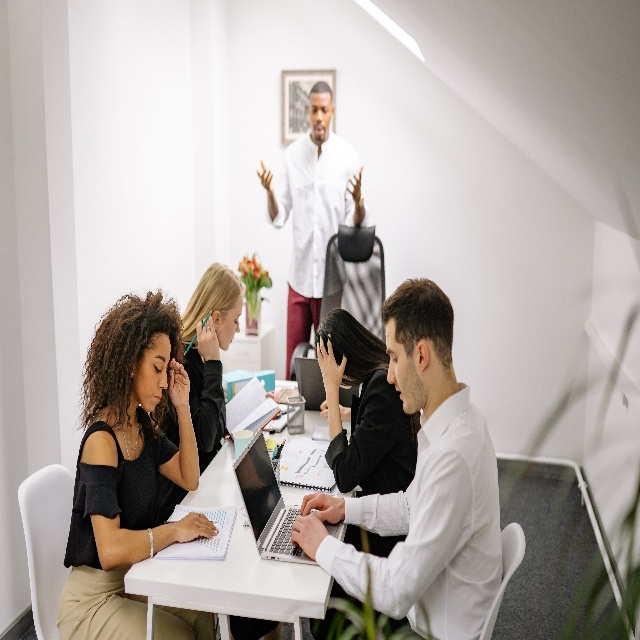Sin_guantes: (291, 513, 330, 562), (316, 333, 347, 388), (300, 489, 343, 526), (176, 510, 220, 541), (167, 358, 191, 407), (196, 315, 221, 361), (346, 163, 365, 206), (256, 157, 274, 195), (319, 398, 341, 423), (265, 390, 277, 400)
